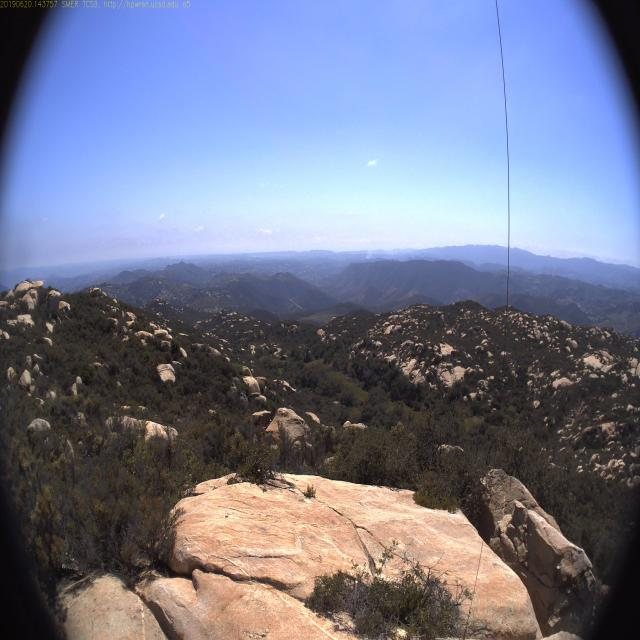smoke: (365, 247, 378, 261)
